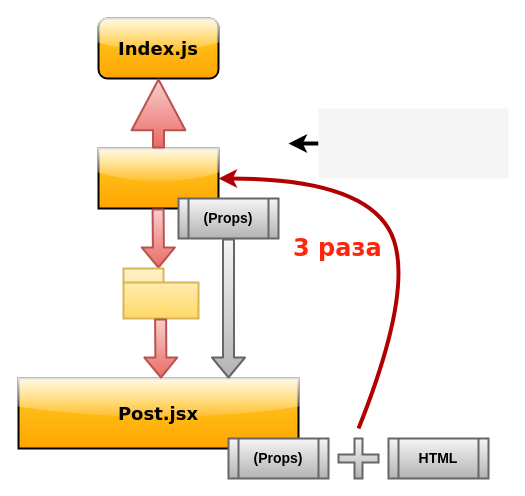
Some shapes in this 525 by 496 pixel diagram are drawn without their labels. Here are the shapes that lost their labels. From the top down, the centre of each, then its label:
At (x=413, y=143): "Это не схемы рендера, а схемы взаимодействия с props!".
At (x=158, y=178): "App.jsx".
At (x=160, y=293): "Post".
